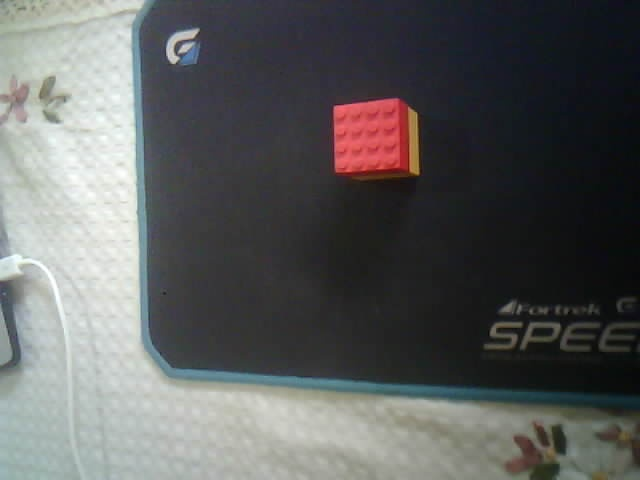lego: (331, 97, 421, 183)
